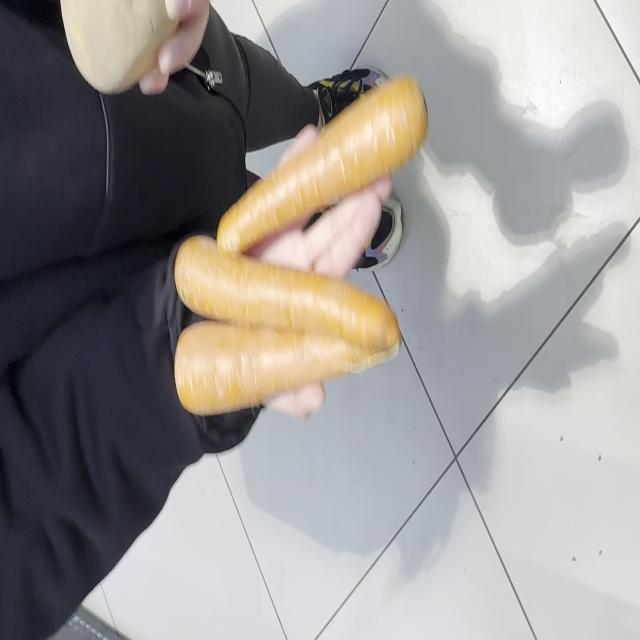carrot: (218, 75, 429, 256), (175, 236, 400, 351), (175, 322, 398, 415)
potato: (61, 0, 176, 93)
